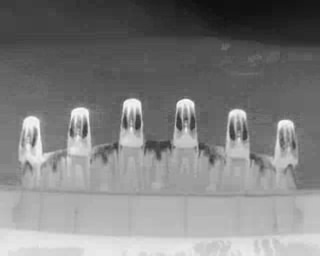claw: (226, 108, 252, 160), (119, 98, 144, 148), (19, 114, 43, 164), (175, 98, 198, 150), (68, 107, 92, 155), (276, 119, 299, 168)
